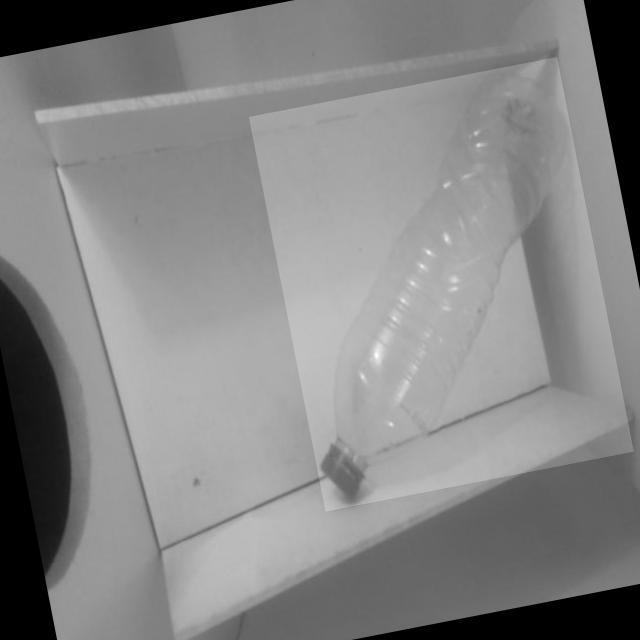good: (248, 56, 632, 510)
